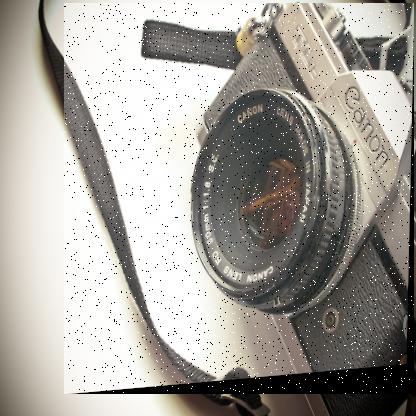Camera: (65, 4, 416, 396)
